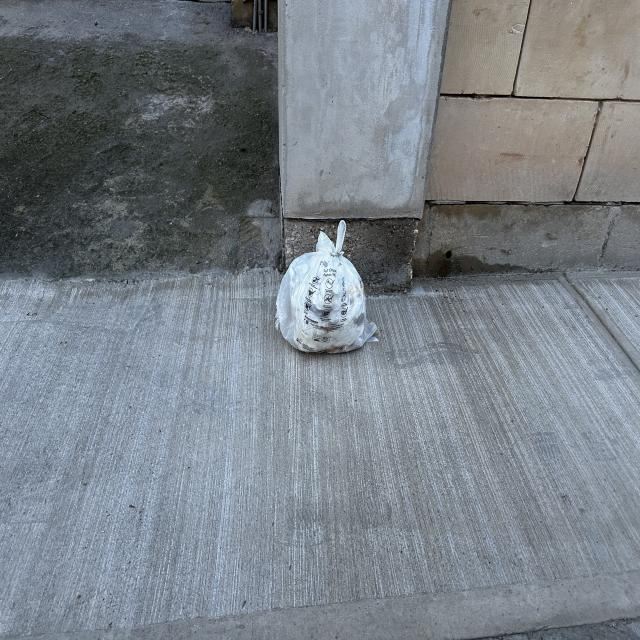Organic Waste -White Bags-: (274, 221, 380, 353)
